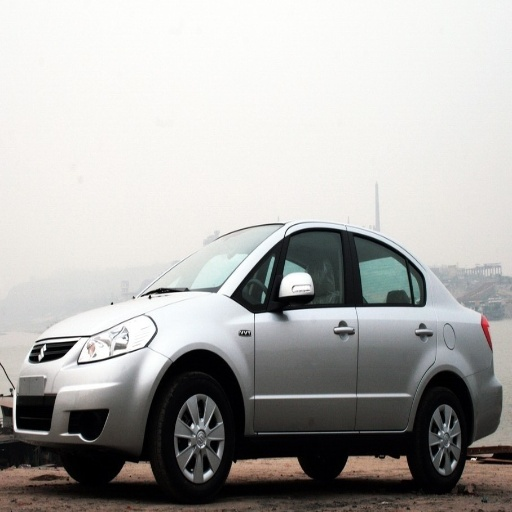back_left_door: (349, 229, 440, 428)
front_bumper: (2, 338, 167, 453)
front_glass: (199, 229, 270, 288)
front_left_door: (251, 228, 357, 430)
